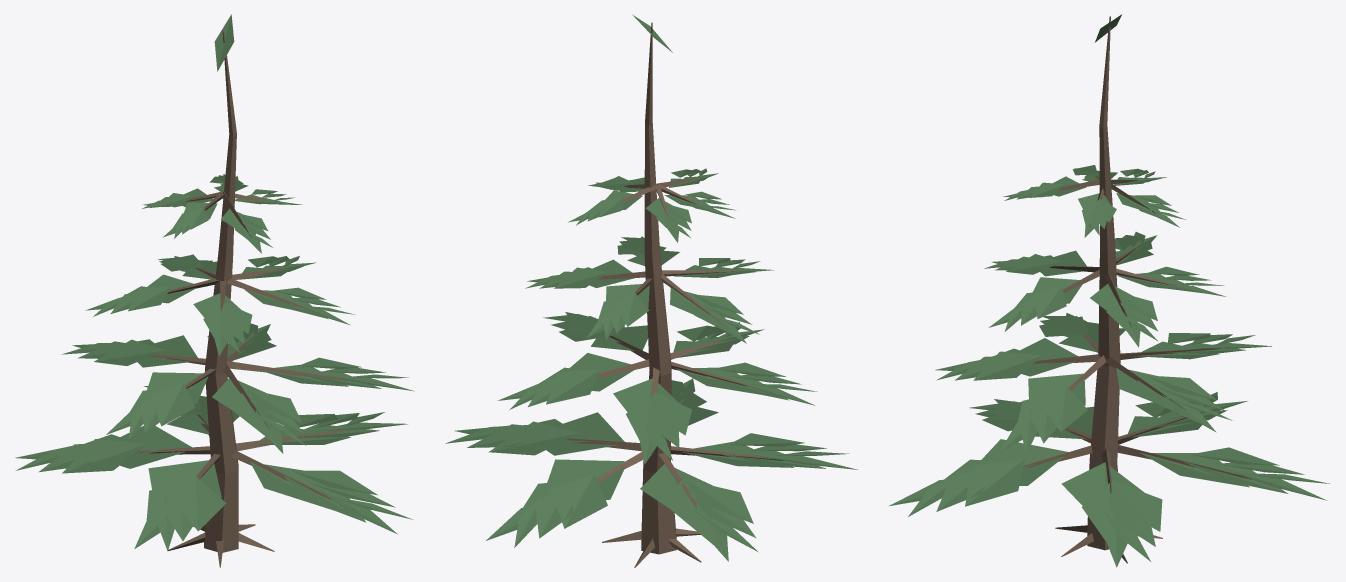
File: hemlock-sapling-lod1.glb
3 renders of one model, left to right at view 1: azimuth 30°, elevation 25°; view 2: azimuth 150°, elevation 25°; view 3: azimuth 270°, elevation 25°, orthographic. The views are drawn at different scales.
Visible parts, largest first — view 1: understory_hemlock-sapling_LOD1; view 2: understory_hemlock-sapling_LOD1; view 3: understory_hemlock-sapling_LOD1.
Boxes of the visible parts, bbox=[...] form: understory_hemlock-sapling_LOD1: bbox=[15, 14, 414, 567]; understory_hemlock-sapling_LOD1: bbox=[445, 14, 857, 567]; understory_hemlock-sapling_LOD1: bbox=[889, 14, 1329, 567].
Size of the model in its own units: 1.92 by 2.75 by 2.06.
